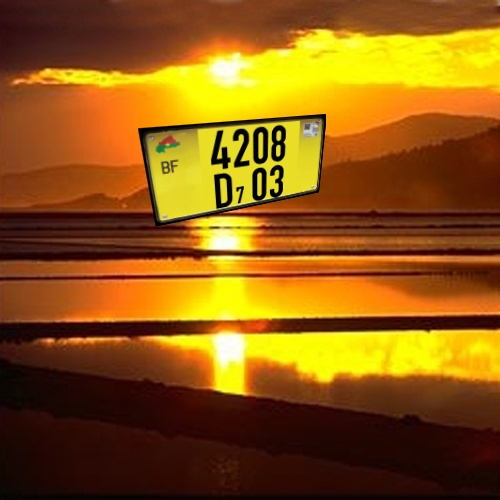plate: (127, 108, 337, 230)
